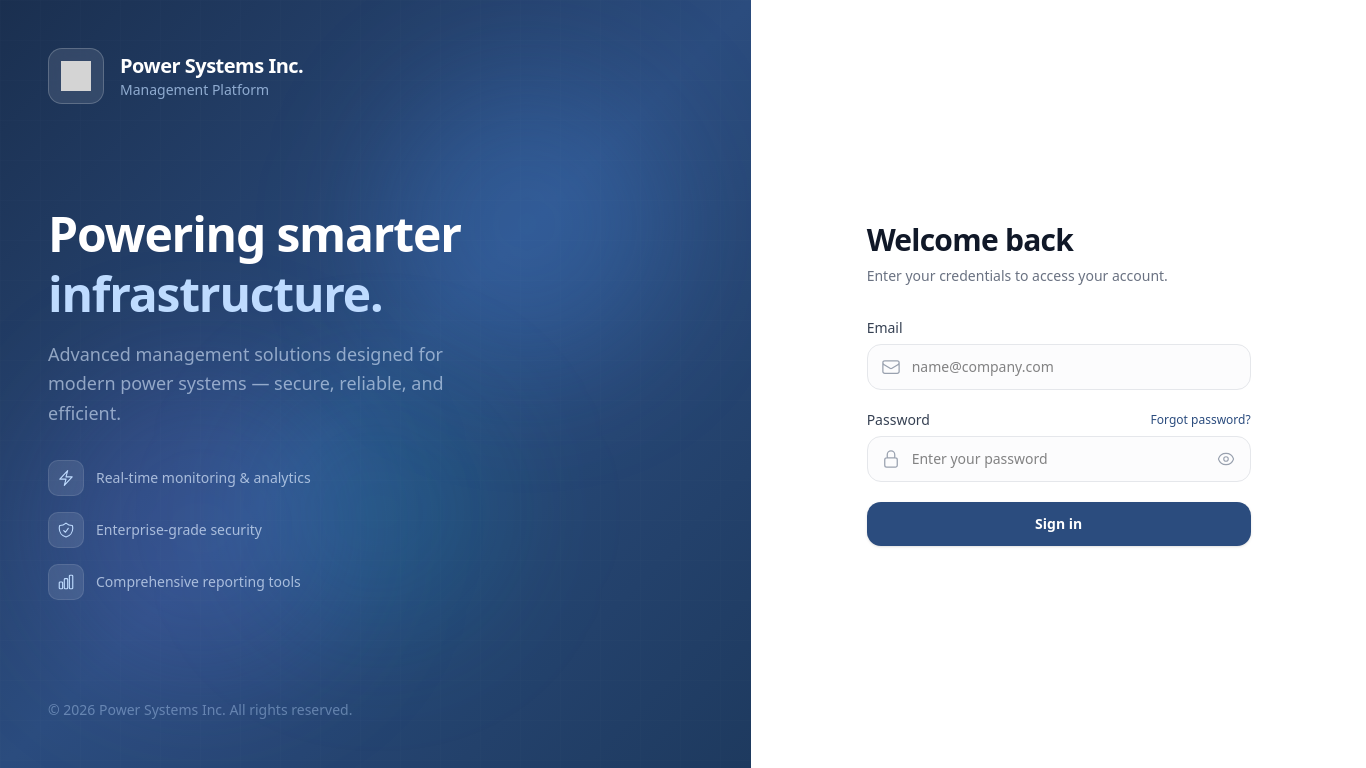
Test: AuthPage - Login Form › Form Submission - Success › displays loading state during submission
The width and height of the screenshot is (1366, 768).
Type "test@example.com" into the field labelled "Email". click: (1059, 367)
box: [867,344,1251,390]
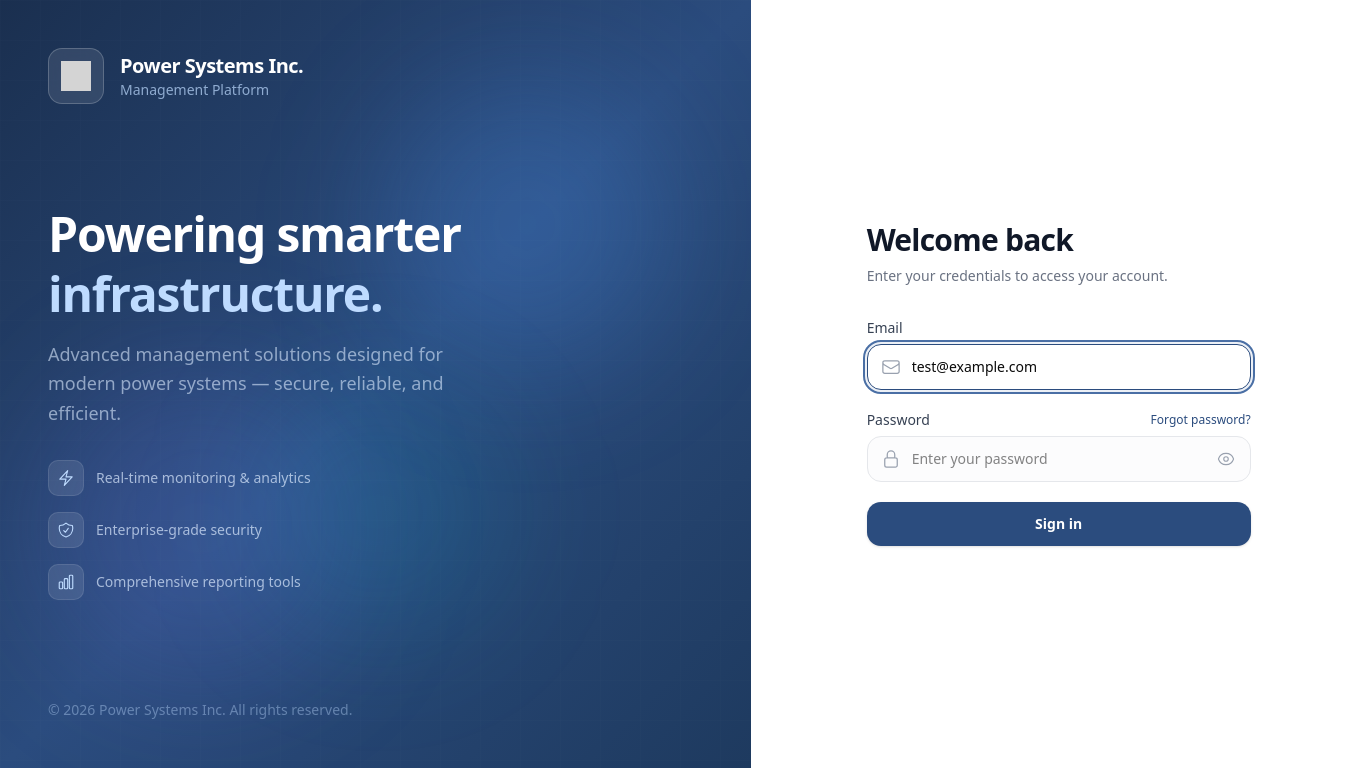
Type "password123" into the password field labelled "Password". click: (1059, 459)
box: [867,436,1251,482]
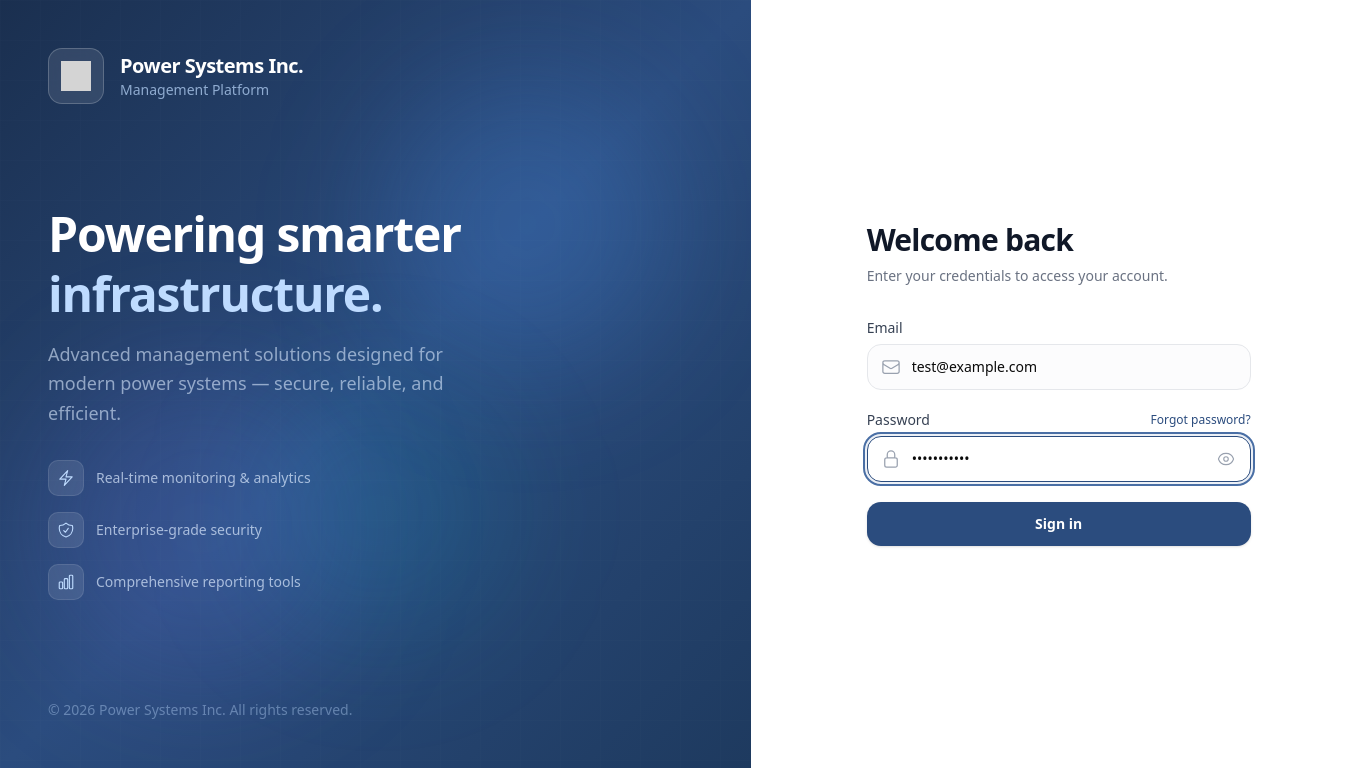
Click the button "Sign in". click: (1059, 524)
box: [867,502,1251,546]
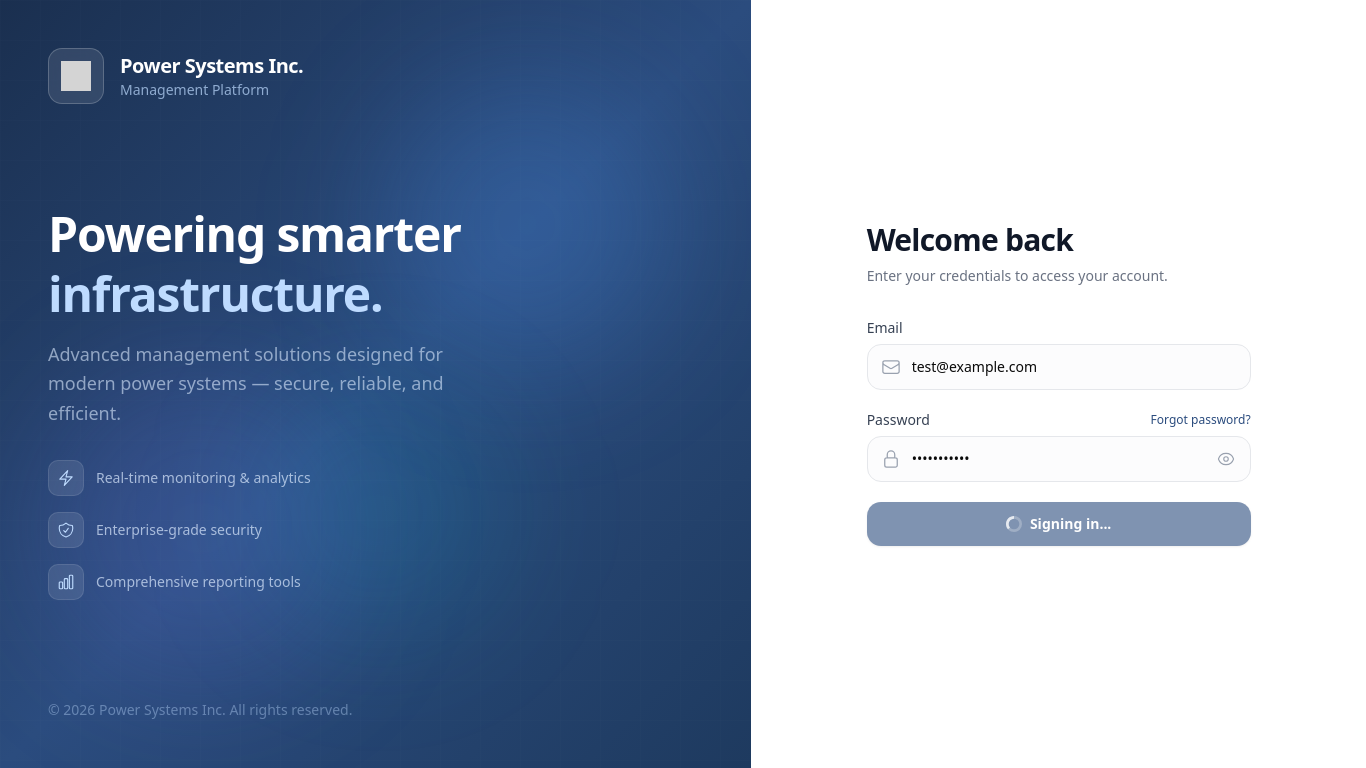
Now the text "Signing in..." is shown, box [1006,514,1111,533]
Now the button named "sign in" is disabled, box [867,502,1251,546]
